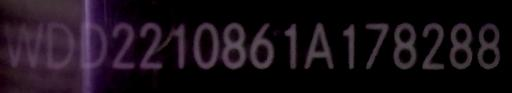letter: (2, 19, 44, 68), (302, 20, 338, 71), (44, 20, 78, 73), (76, 21, 110, 74), (135, 20, 169, 71), (447, 19, 475, 72), (420, 19, 448, 72), (362, 19, 390, 72), (191, 20, 221, 69), (476, 18, 502, 73), (249, 20, 277, 71), (110, 21, 138, 72), (219, 21, 247, 70), (392, 20, 418, 69), (338, 19, 358, 72), (170, 21, 190, 70), (282, 21, 298, 72)
